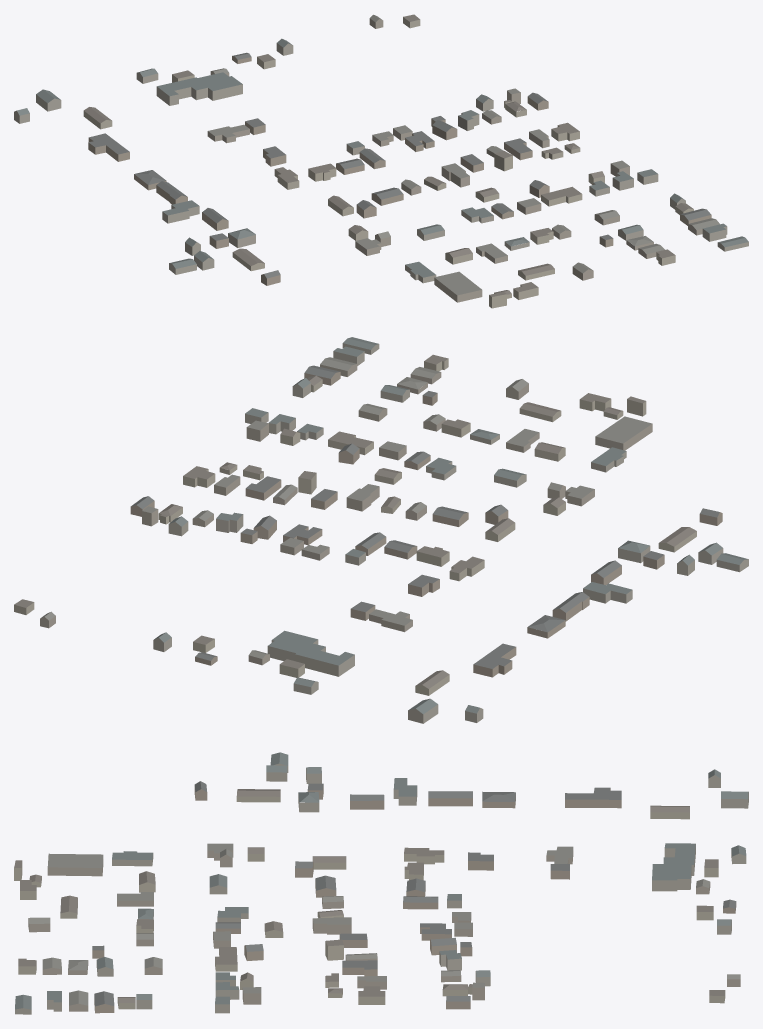
File: 6b27e8652e86-chunk-1205_11842.glb
The picture shows the model from 3 angles, top to bottom: view 1: azimuth 30°, elevation 25°; view 2: azimuth 150°, elevation 25°; view 3: azimuth 270°, elevation 25°; orthographic projection. The views are drawn at different scales.
Visible parts, largest first — view 1: building_134422, building_141524, building_48957, building_74622, building_129190, building_167152; view 2: building_134422, building_141524, building_48957, building_74622, building_167152, building_11257, building_128089; view 3: building_134422, building_141524, building_48957, building_11257, building_128089, building_38883, building_168724, building_74990, building_74622, building_155702, building_140389, building_118486 (+11 smaller).
Part boxes in pixels (x1,y1,x2,y2): building_134422: (156, 72, 242, 105); building_141524: (434, 271, 482, 302); building_48957: (88, 133, 129, 161); building_74622: (162, 200, 199, 223); building_129190: (541, 186, 582, 206); building_167152: (207, 124, 249, 143); building_134422: (267, 630, 354, 676); building_141524: (595, 416, 652, 450); building_48957: (473, 643, 516, 677); building_74622: (583, 582, 632, 603); building_167152: (369, 609, 412, 632); building_11257: (552, 592, 589, 621); building_128089: (346, 484, 379, 511); building_134422: (652, 843, 695, 891); building_141524: (47, 853, 103, 876); building_48957: (565, 787, 621, 808); building_11257: (428, 791, 472, 806); building_128089: (312, 917, 351, 934); building_38883: (236, 789, 280, 802); building_168724: (112, 851, 153, 866); building_74990: (404, 847, 444, 864); building_74622: (393, 778, 417, 805); building_155702: (350, 794, 384, 809); building_140389: (342, 960, 377, 976); building_118486: (482, 791, 515, 808).
Size of the model in its own units: 320 by 8.58 by 392.
